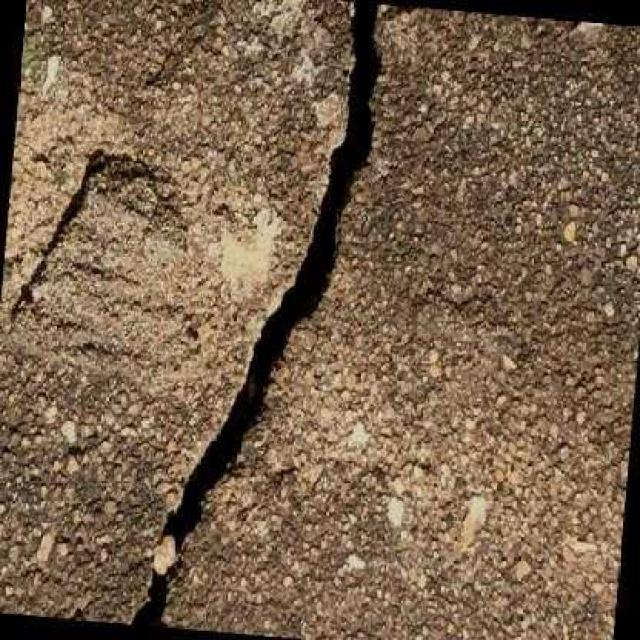D00: (161, 2, 386, 560), (132, 566, 168, 627)
